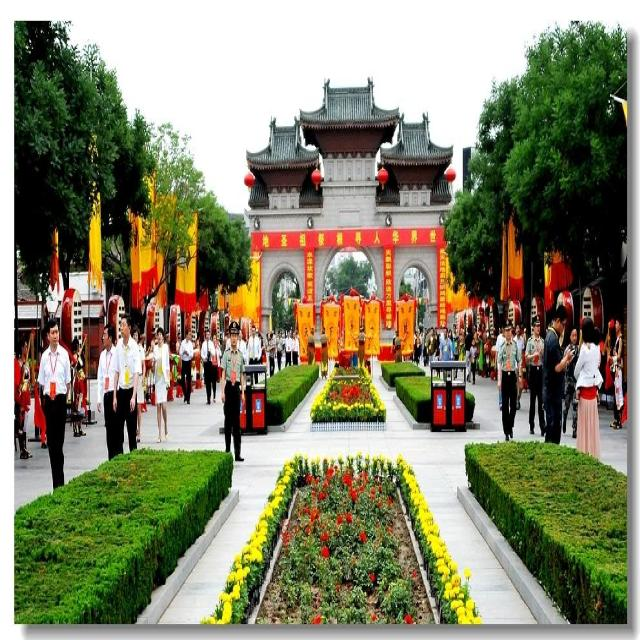non-fight: (35, 320, 73, 500), (102, 316, 142, 460), (573, 315, 603, 461), (219, 327, 246, 462), (494, 322, 521, 442), (523, 317, 545, 442), (150, 326, 171, 442)
